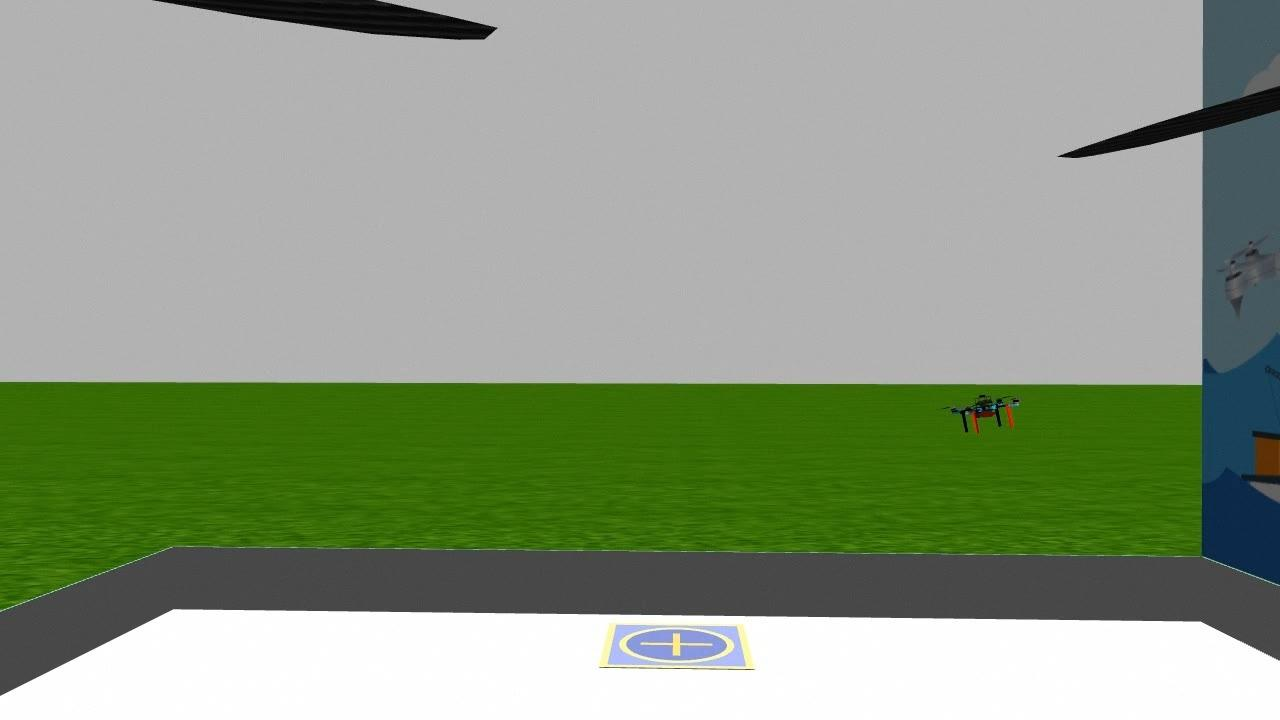UAV: (944, 384, 1034, 444)
